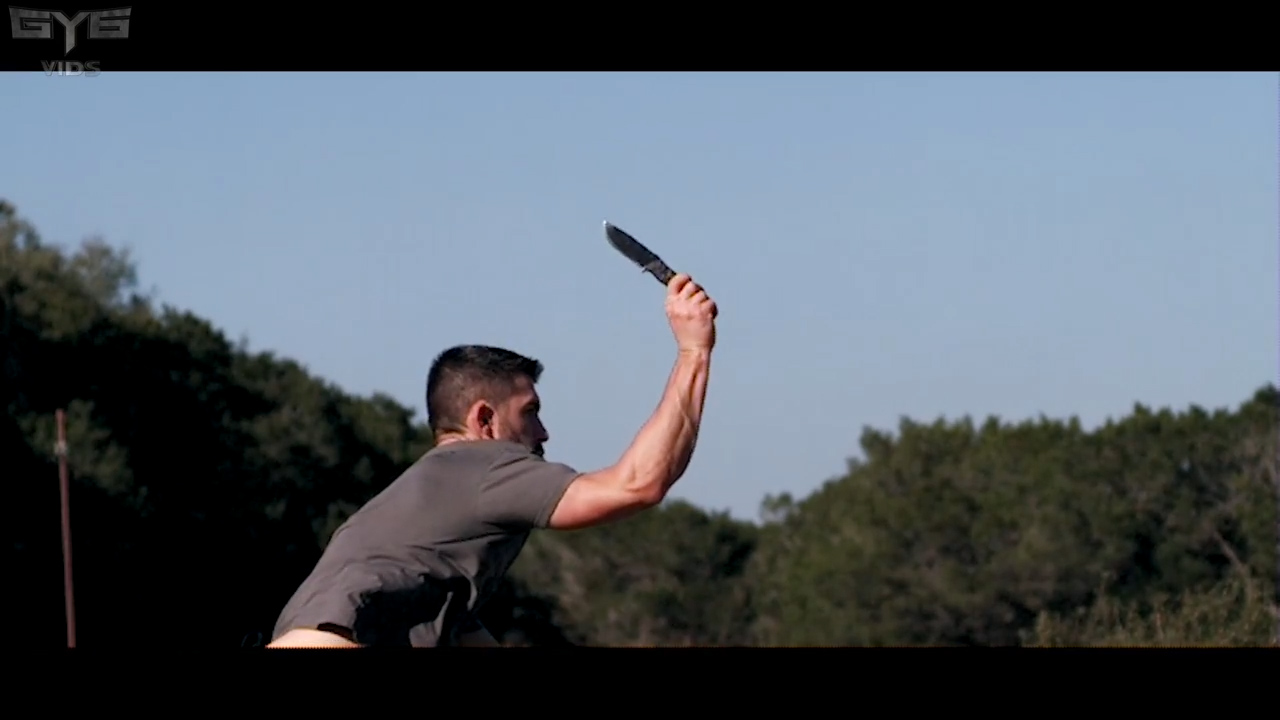knife: (590, 203, 727, 333)
